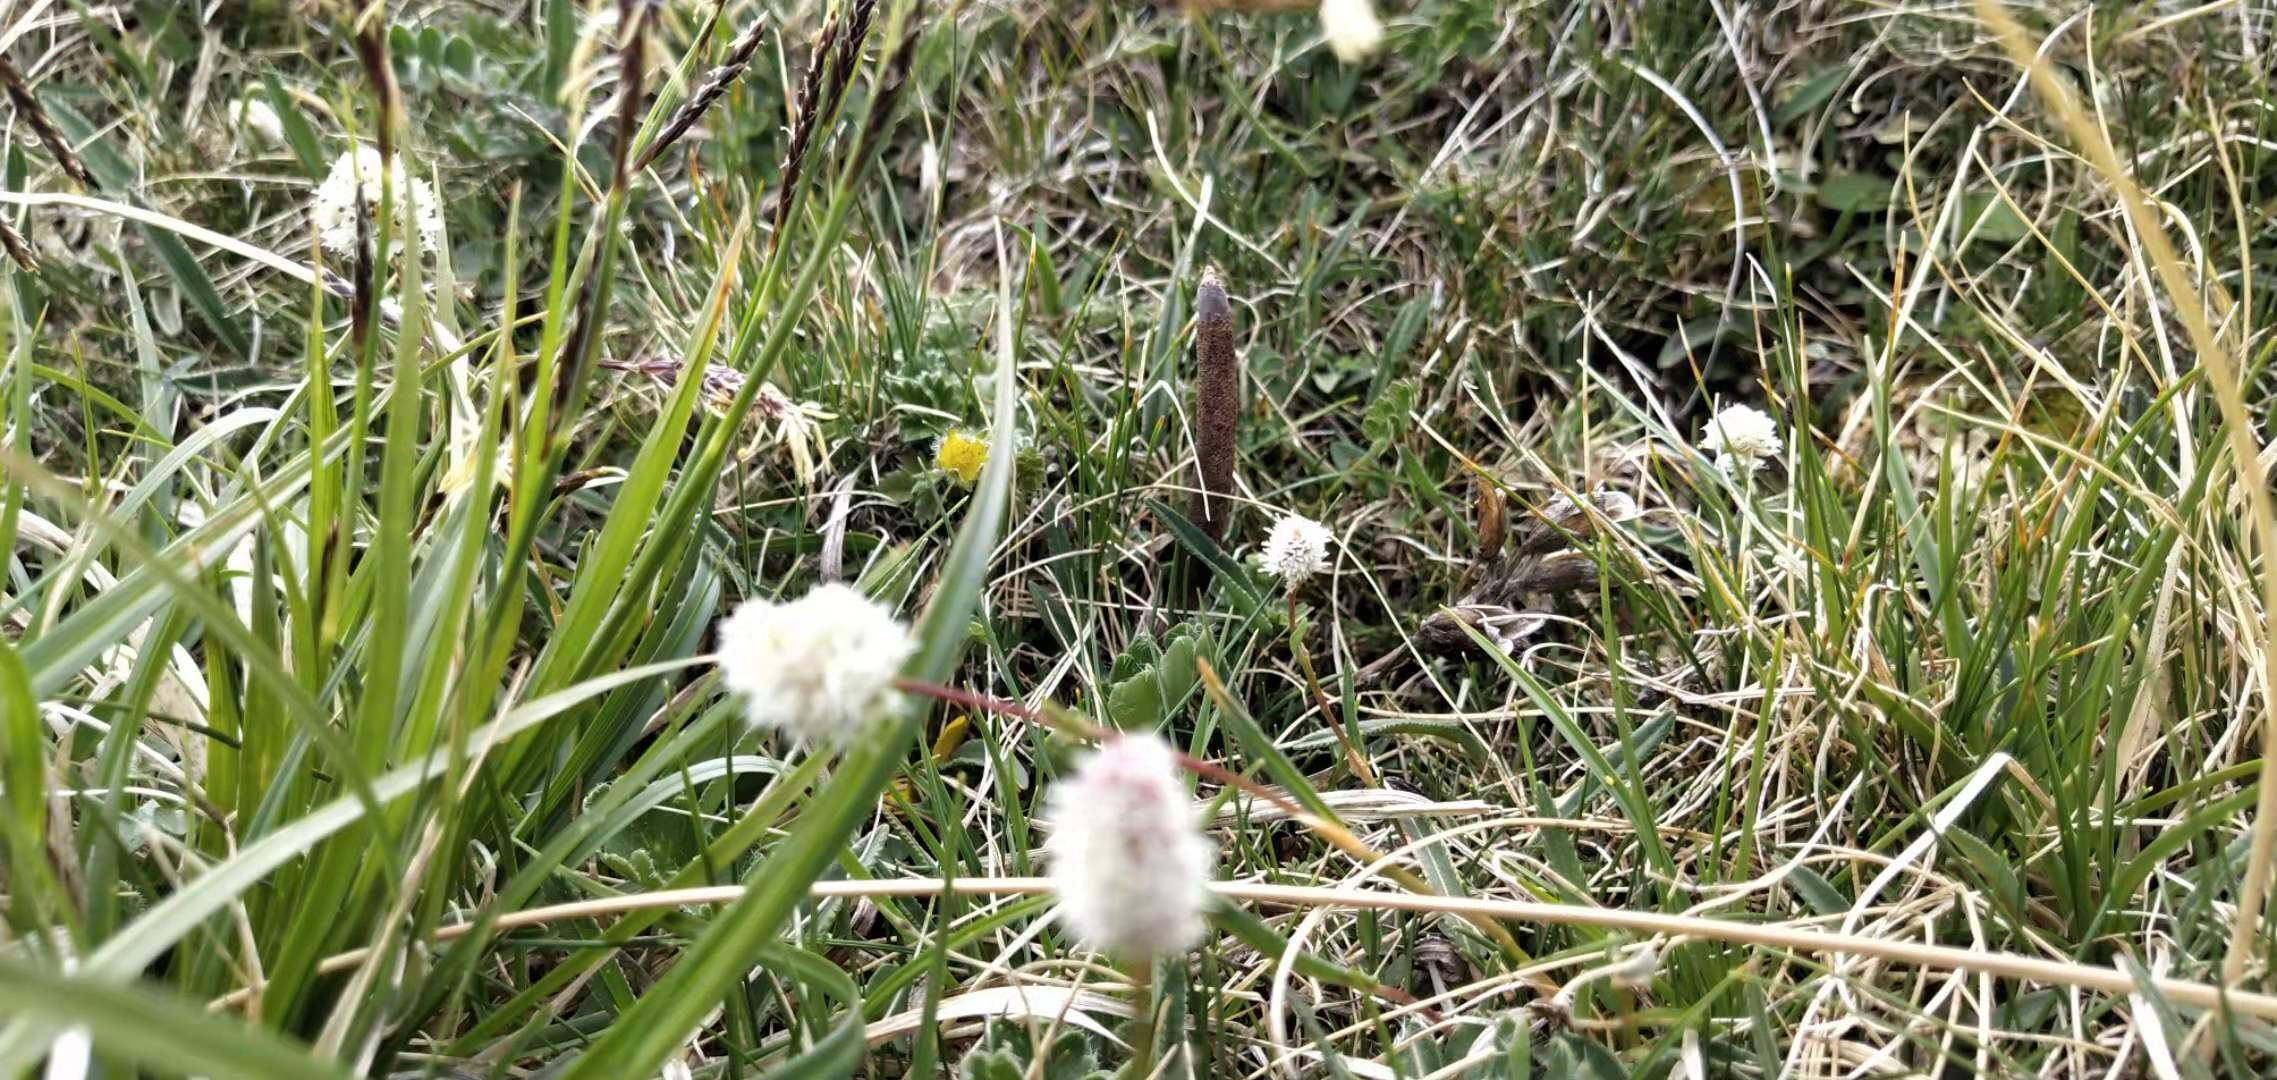Chongcao: (1189, 269, 1239, 557)
